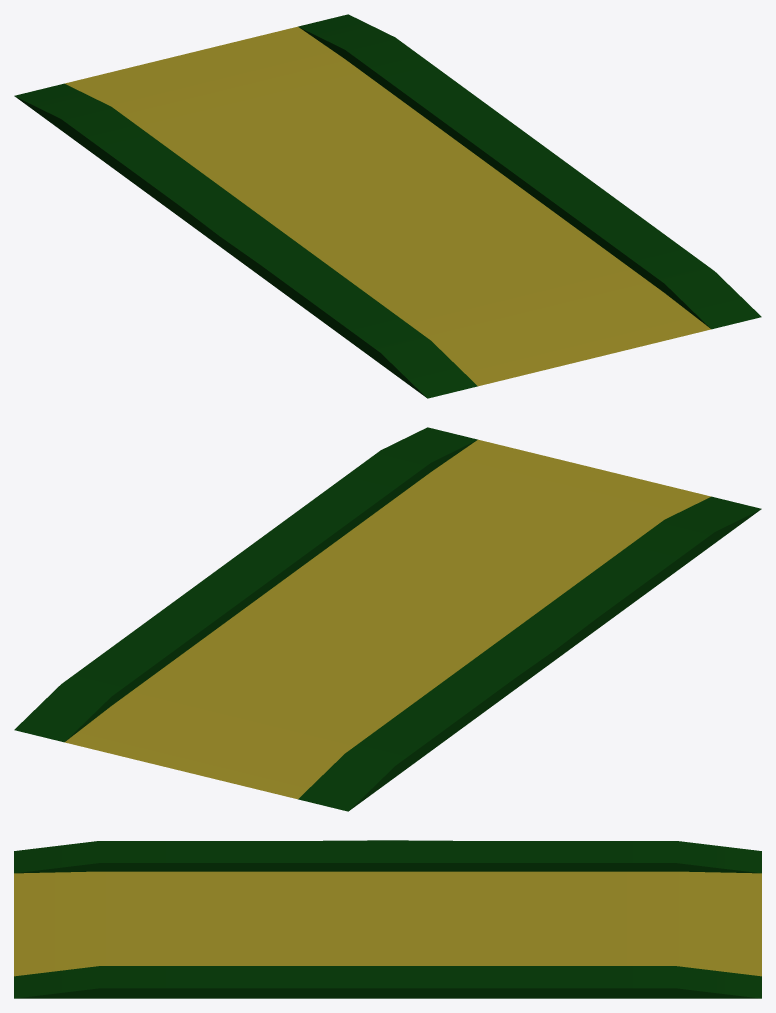
File: Path_Straight.FBX
3 renders of one model, top to bottom at view 1: azimuth 30°, elevation 25°; view 2: azimuth 150°, elevation 25°; view 3: azimuth 270°, elevation 25°, orthographic. The views are drawn at different scales.
Parts seen in each view (by area): view 1: Straight; view 2: Straight; view 3: Straight.
Part boxes in pixels (x1,y1,x2,y2): Straight: (14, 14, 761, 398); Straight: (14, 427, 761, 811); Straight: (14, 840, 761, 998).
Size of the model in its own units: 75.25 by 2.43 by 161.
